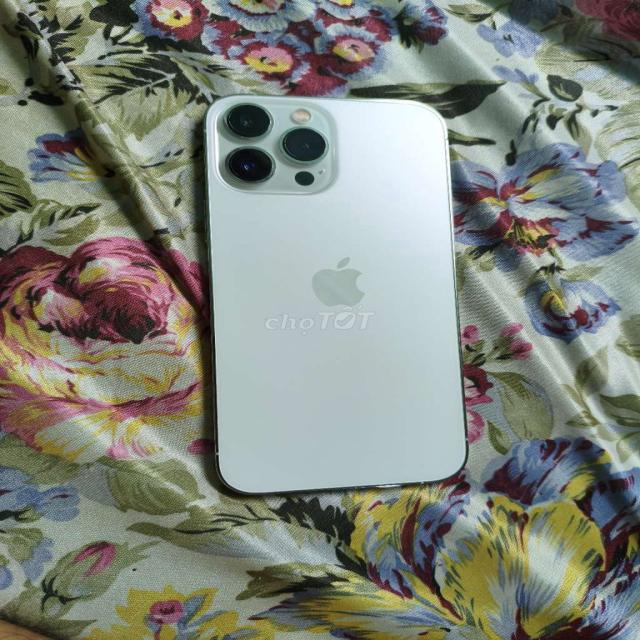gen_12_13: (200, 90, 476, 500)
